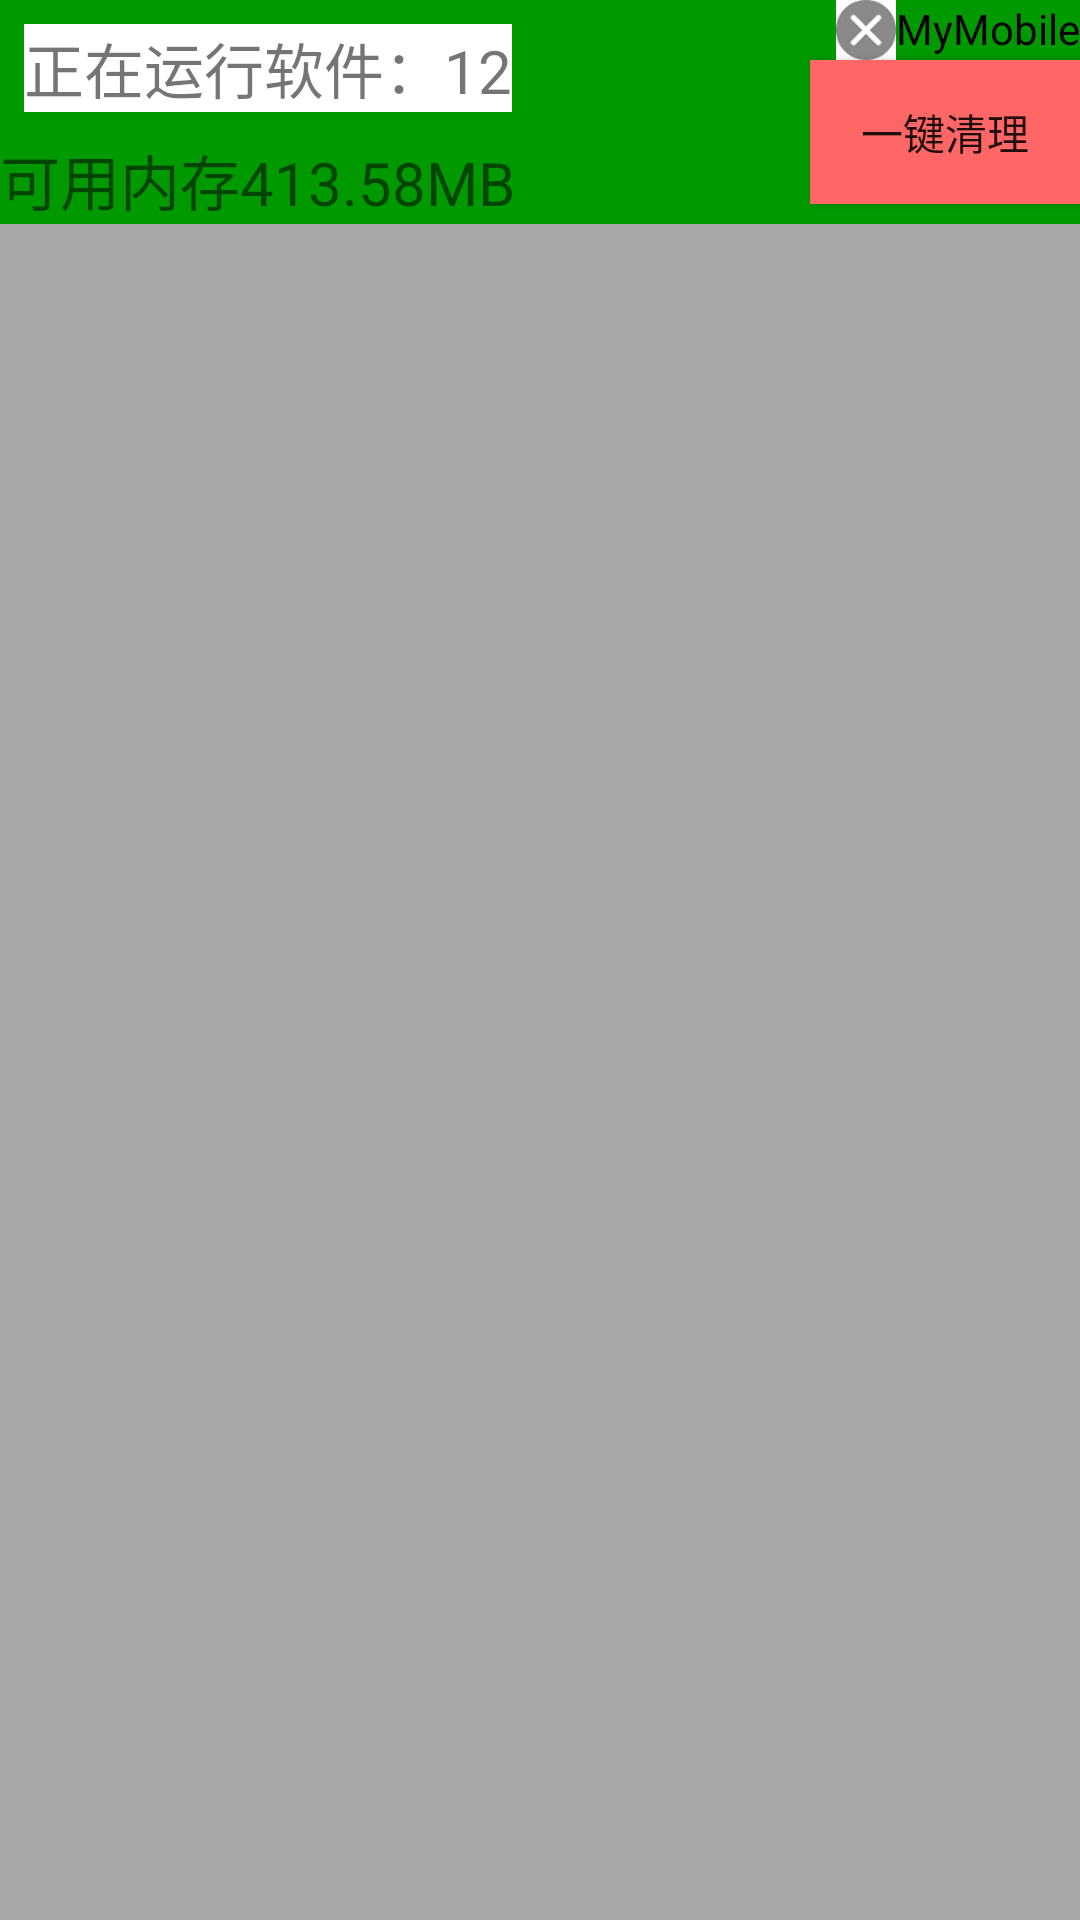

Point at icon controls on the screen. Image size 1080*1920, points as point (x, y).
delete: point (866, 30)
